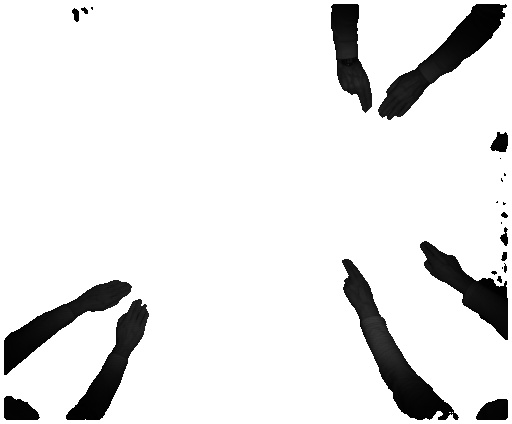hand: (416, 240, 466, 290), (336, 62, 375, 119), (336, 256, 374, 314), (378, 75, 428, 119), (117, 301, 151, 355), (79, 280, 133, 313)
